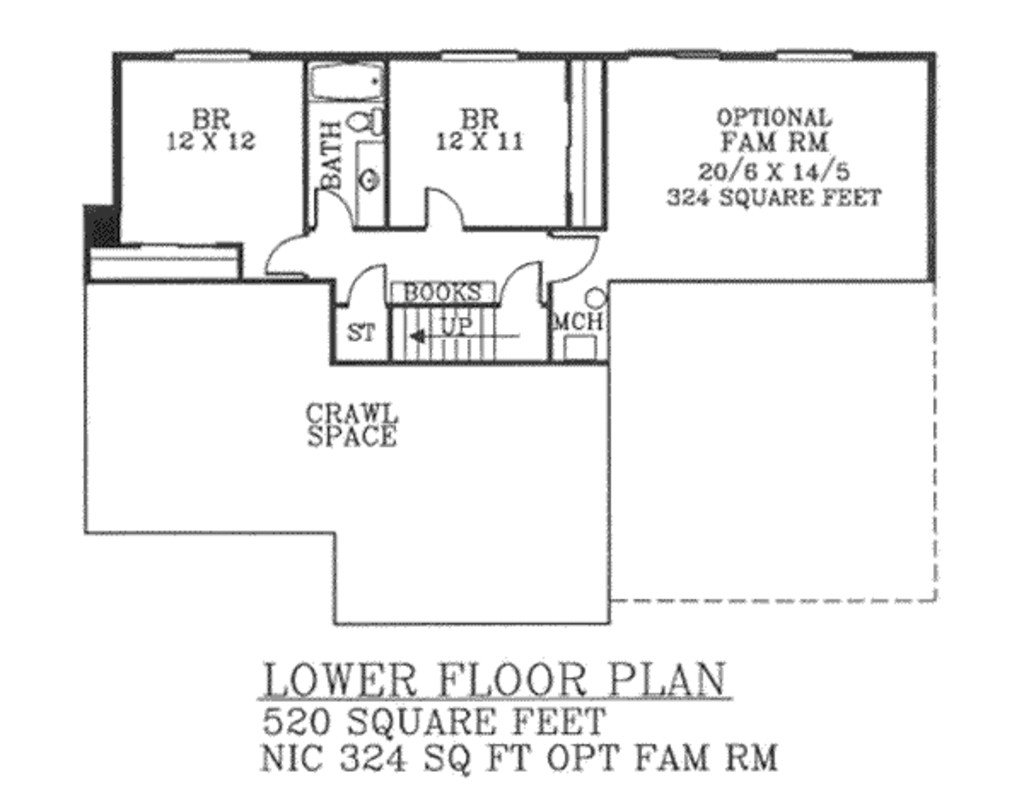door: (406, 177, 467, 233), (549, 224, 599, 280), (256, 237, 312, 282), (343, 255, 386, 311), (308, 185, 352, 229), (494, 261, 540, 302)
large_sink: (338, 105, 386, 138)
small_sink: (354, 147, 386, 224)
stairs: (387, 298, 501, 366)
tub: (303, 61, 382, 101)
window: (777, 40, 864, 68), (170, 44, 255, 68), (438, 47, 525, 65)
